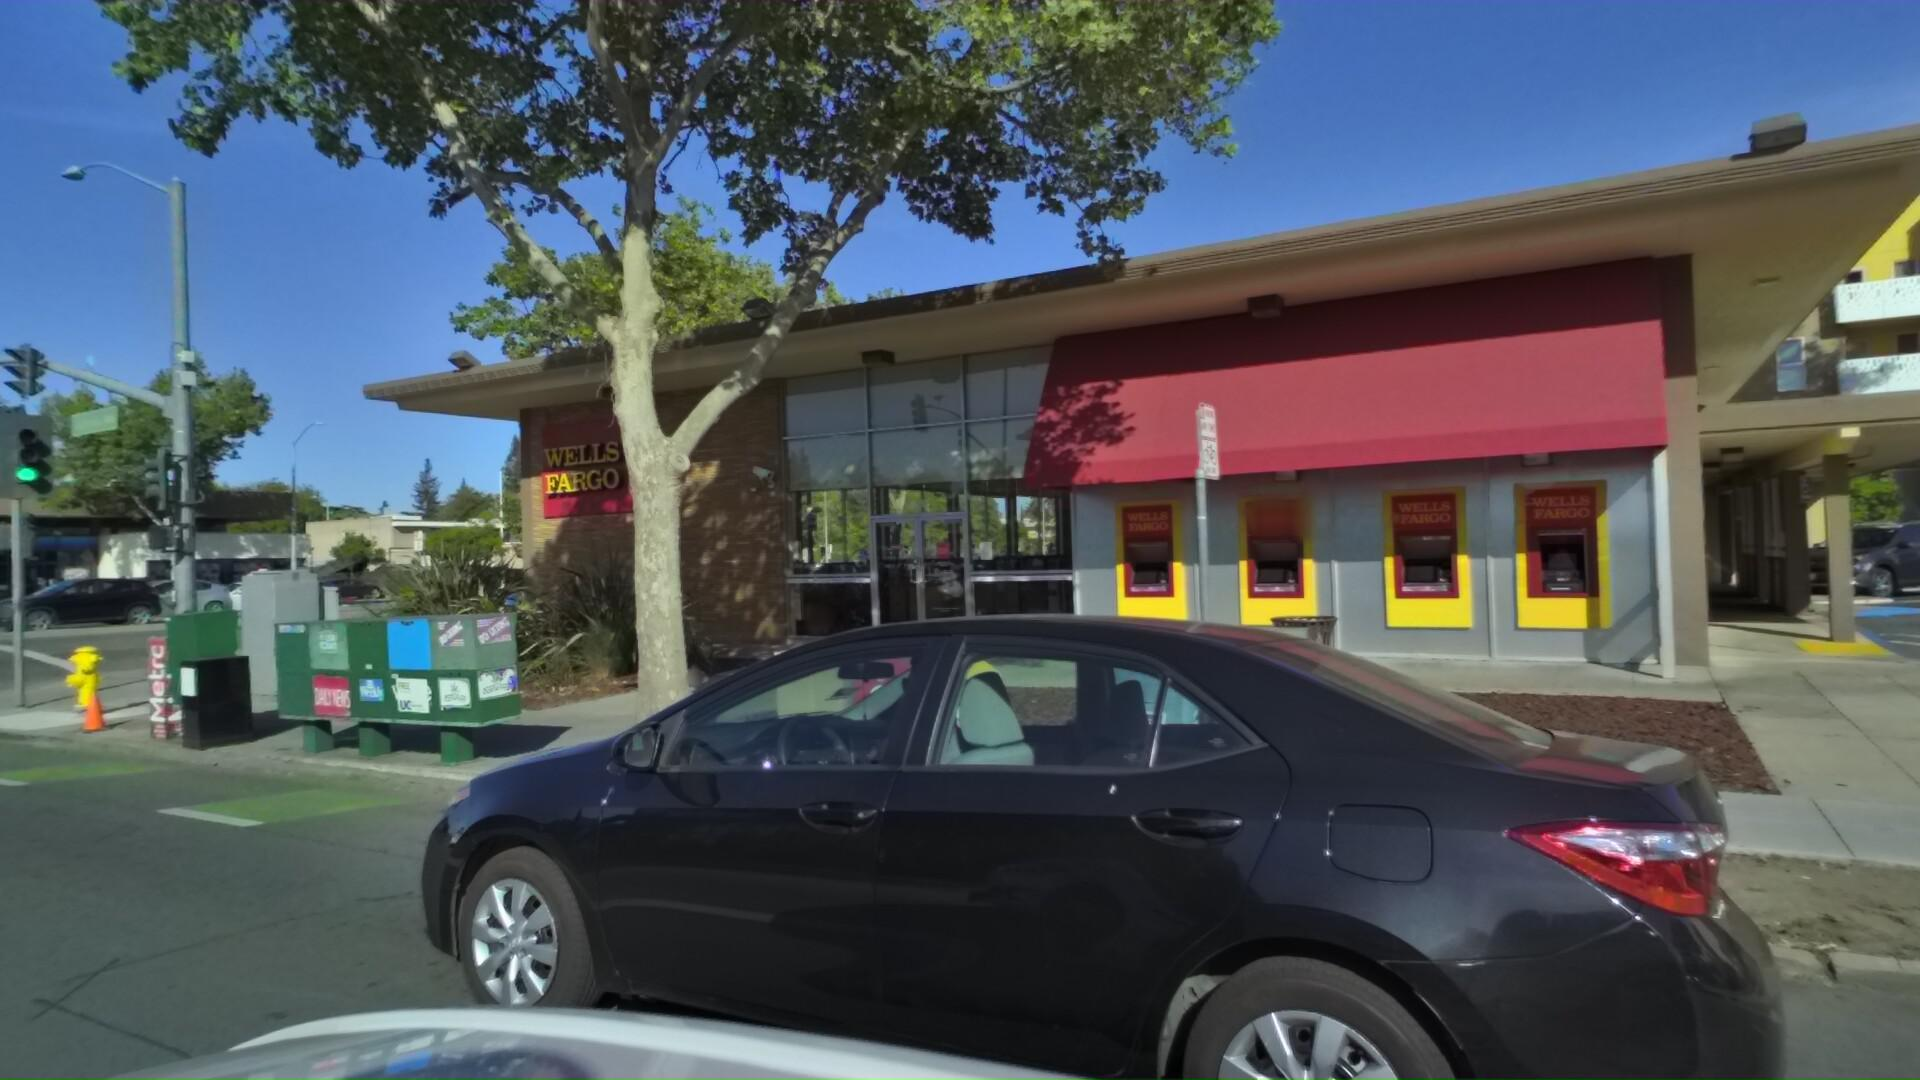car: (324, 568, 1904, 1080), (1771, 510, 1920, 597), (0, 566, 169, 626), (94, 568, 256, 618), (179, 568, 323, 611)
